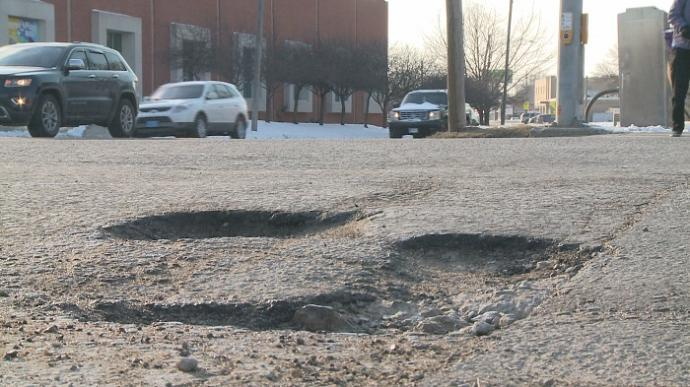Pothole: (2, 209, 664, 383)
